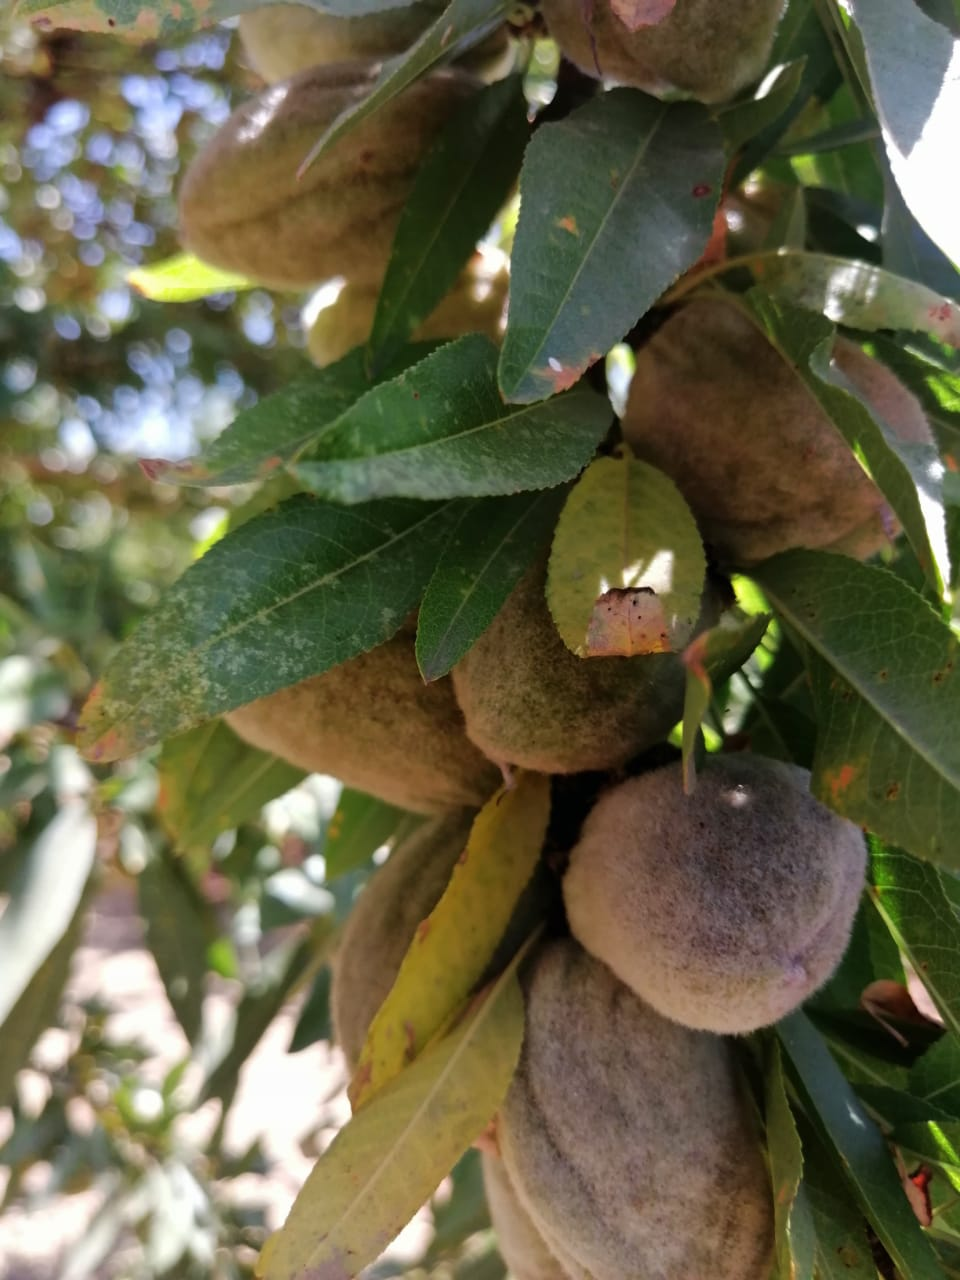faux tigre: (69, 494, 463, 768), (282, 333, 614, 503)
